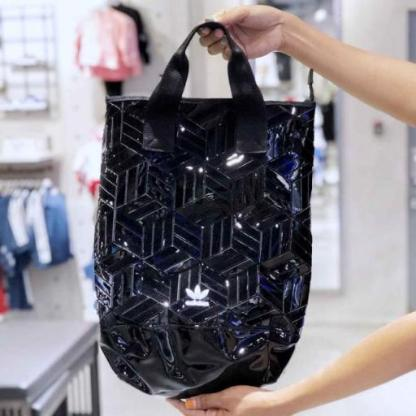bag: (85, 14, 321, 409)
